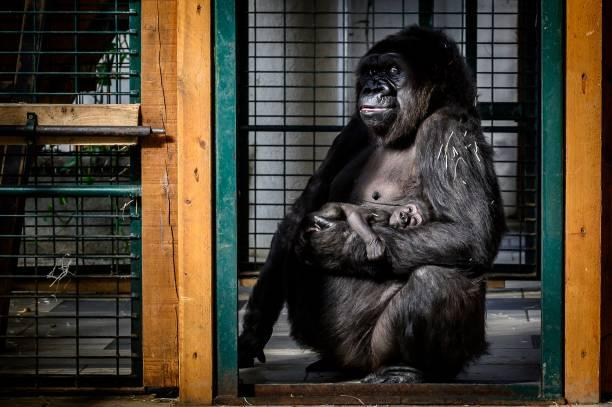gorille_Autres: (252, 4, 519, 374)
